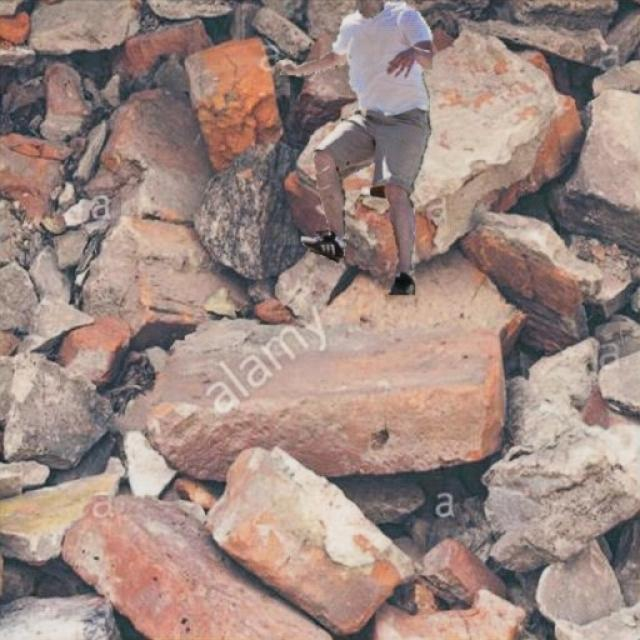Person in Rubble: (275, 0, 431, 294)
